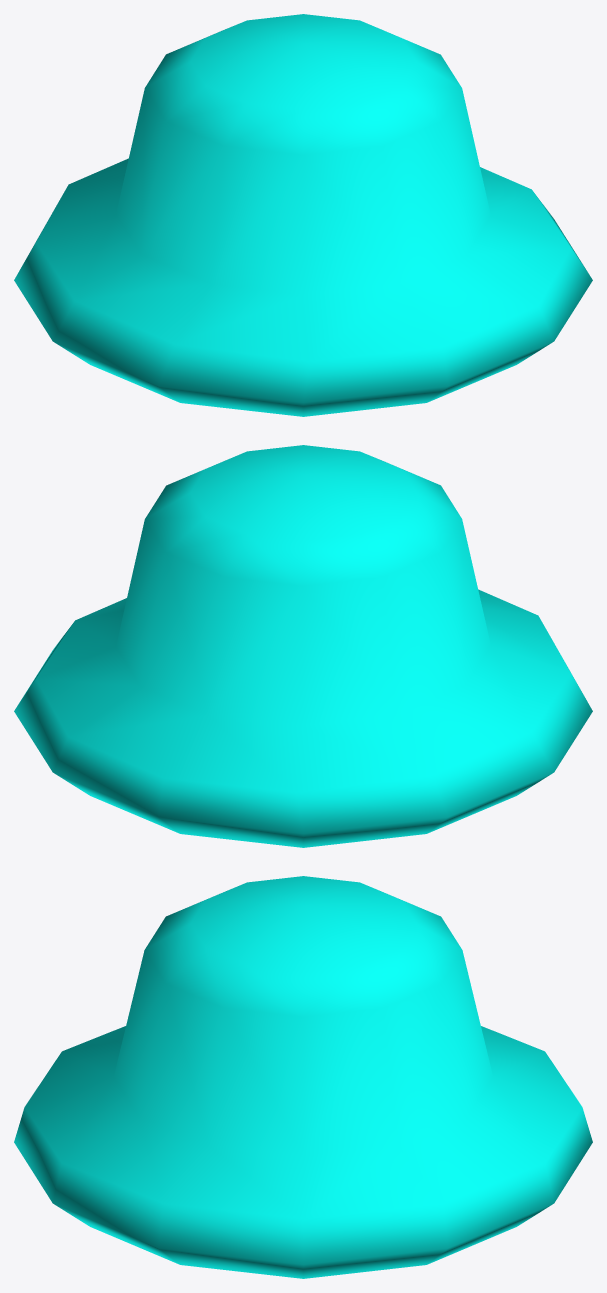
File: Hat_Hat.FBX
The picture shows the model from 3 angles, top to bottom: view 1: azimuth 30°, elevation 25°; view 2: azimuth 150°, elevation 25°; view 3: azimuth 270°, elevation 25°; orthographic projection.
Visible parts, largest first — view 1: HatTop_PH; view 2: HatTop_PH; view 3: HatTop_PH.
Part boxes in pixels (<box>): HatTop_PH: <box>14,14,592,416</box>; HatTop_PH: <box>14,445,592,847</box>; HatTop_PH: <box>14,876,592,1278</box>.
Bounding box in the file's own units: 358 × 184 × 358.
